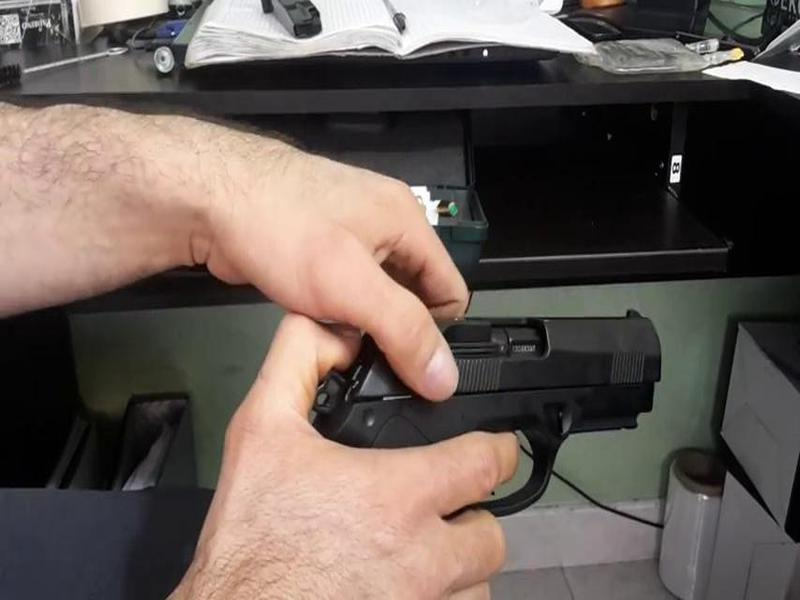Pistola: (302, 275, 674, 524)
